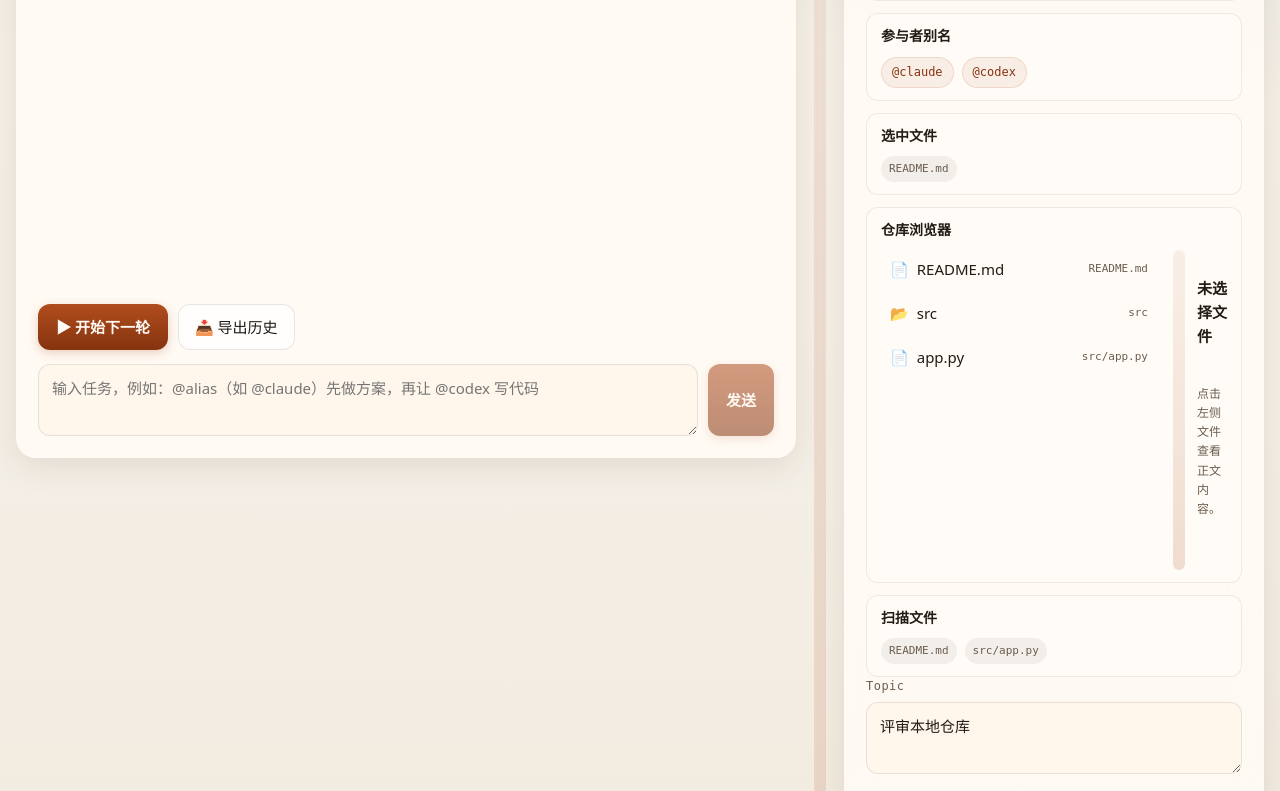
Test: App code workspace mode › renders workspace tree and auto-starts streaming after send
(page scrolled)
Type "@claude 先审查 README" into the text box with placeholder "输入任务，例如：@alias（如 @claude）先做方案，再让 @codex 写代码". click: [368, 400]
box: 38,364 -> 698,436
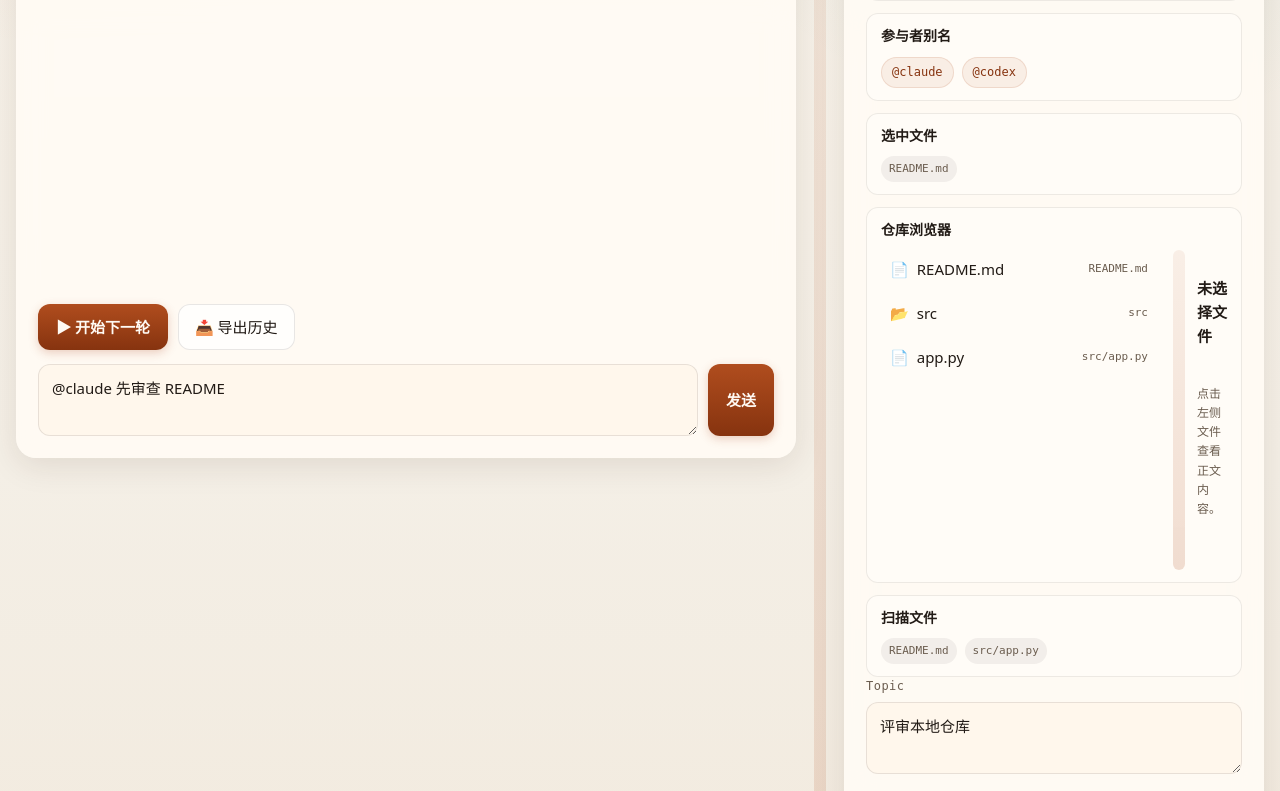
Expected: the button "发送" is enabled
Click the button "发送". click: [741, 400]
box: 708,364 -> 774,436
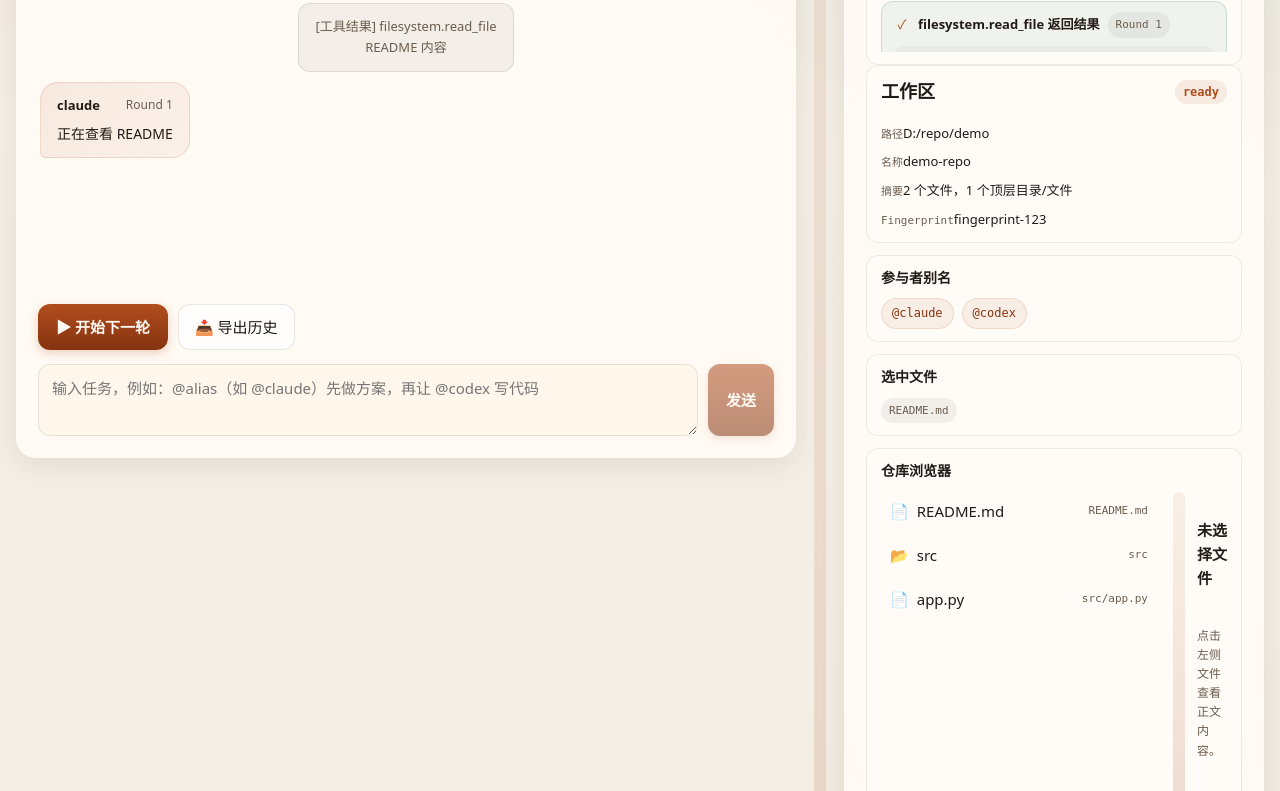
Expected: the text "正在查看 README" is shown, 57,122 -> 173,145
Expected: the text "filesystem.read_file" is shown, 315,17 -> 497,56
Expected: the text "README 内容" is shown, 315,17 -> 497,56
